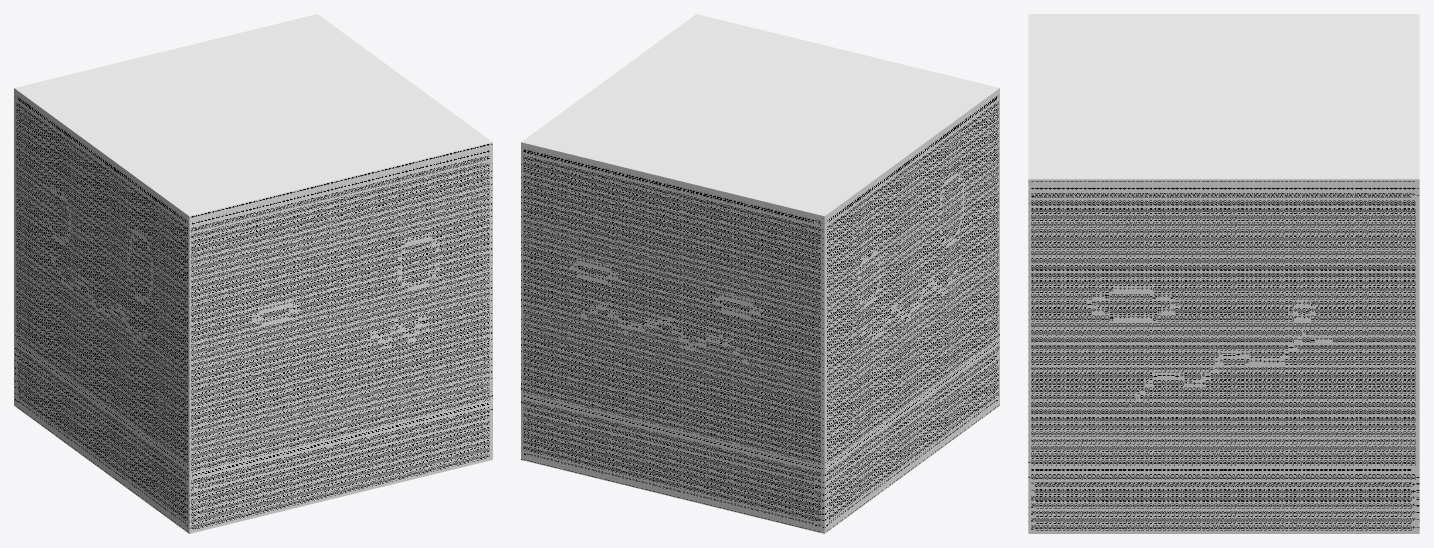
Rendered from ASCIIBox.glb.
3 renders of one model, left to right at view 1: azimuth 30°, elevation 25°; view 2: azimuth 150°, elevation 25°; view 3: azimuth 270°, elevation 25°, orthographic. The views are drawn at different scales.
Parts seen in each view (by area): view 1: ASCIIBox; view 2: ASCIIBox; view 3: ASCIIBox.
Boxes of the visible parts, x1,y1,x2,y2 form: ASCIIBox: (14,14,492,533); ASCIIBox: (521,14,999,533); ASCIIBox: (1028,14,1419,533).
Bounding box in the file's own units: 4.28 × 4.28 × 4.28.
Materials: 1 (1 with a texture image).
